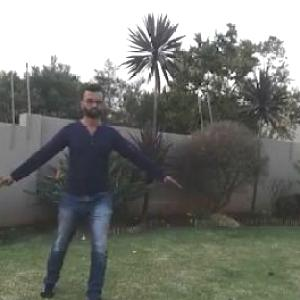land: (24, 92, 165, 265)
